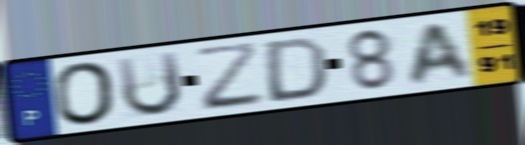8: (344, 27, 401, 93)
A: (406, 19, 476, 88)
D: (264, 35, 330, 105)
O: (51, 59, 119, 127)
U: (114, 48, 185, 120)
Z: (191, 39, 268, 114)
